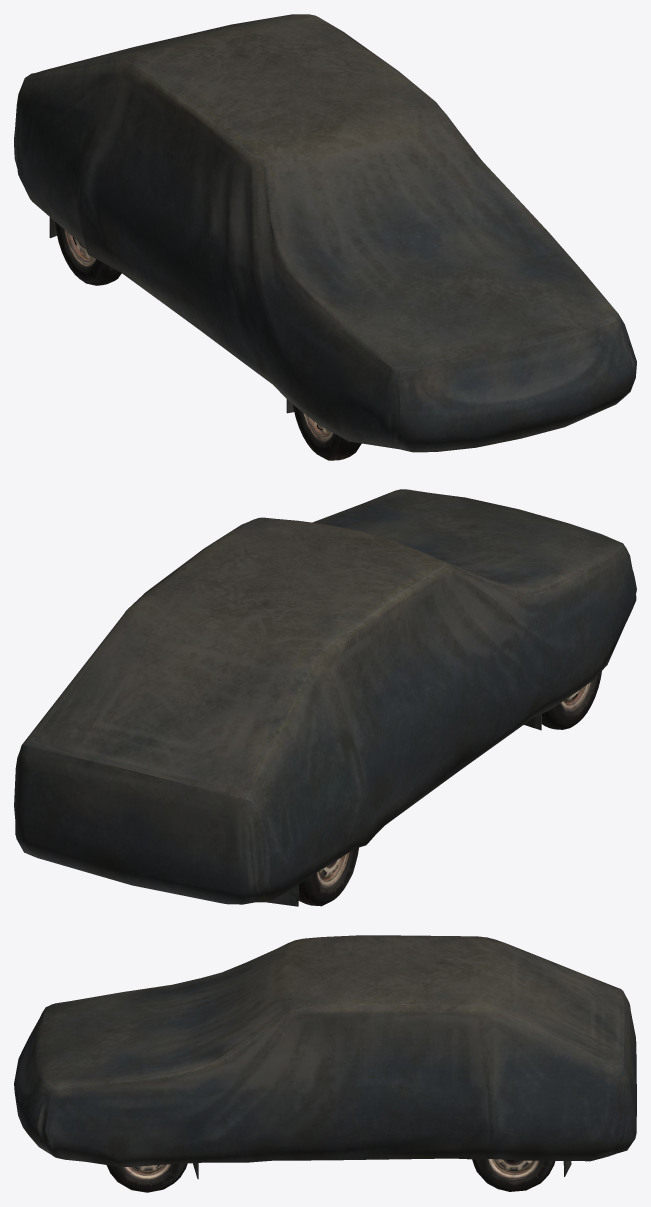
The model's file is covered_car.gltf.
3 renders of one model, top to bottom at view 1: azimuth 30°, elevation 25°; view 2: azimuth 150°, elevation 25°; view 3: azimuth 270°, elevation 25°, orthographic. The views are drawn at different scales.
Visible parts, largest first — view 1: covered_car_wheel_01; view 2: covered_car_wheel_01; view 3: covered_car_wheel_01.
Boxes of the visible parts, box(x1,y1,x2,y2) form: covered_car_wheel_01: box(14, 14, 636, 460); covered_car_wheel_01: box(14, 489, 636, 906); covered_car_wheel_01: box(14, 935, 636, 1192).
Size of the model in its own units: 1.79 by 1.41 by 4.38.
2 materials, 2 textured.
